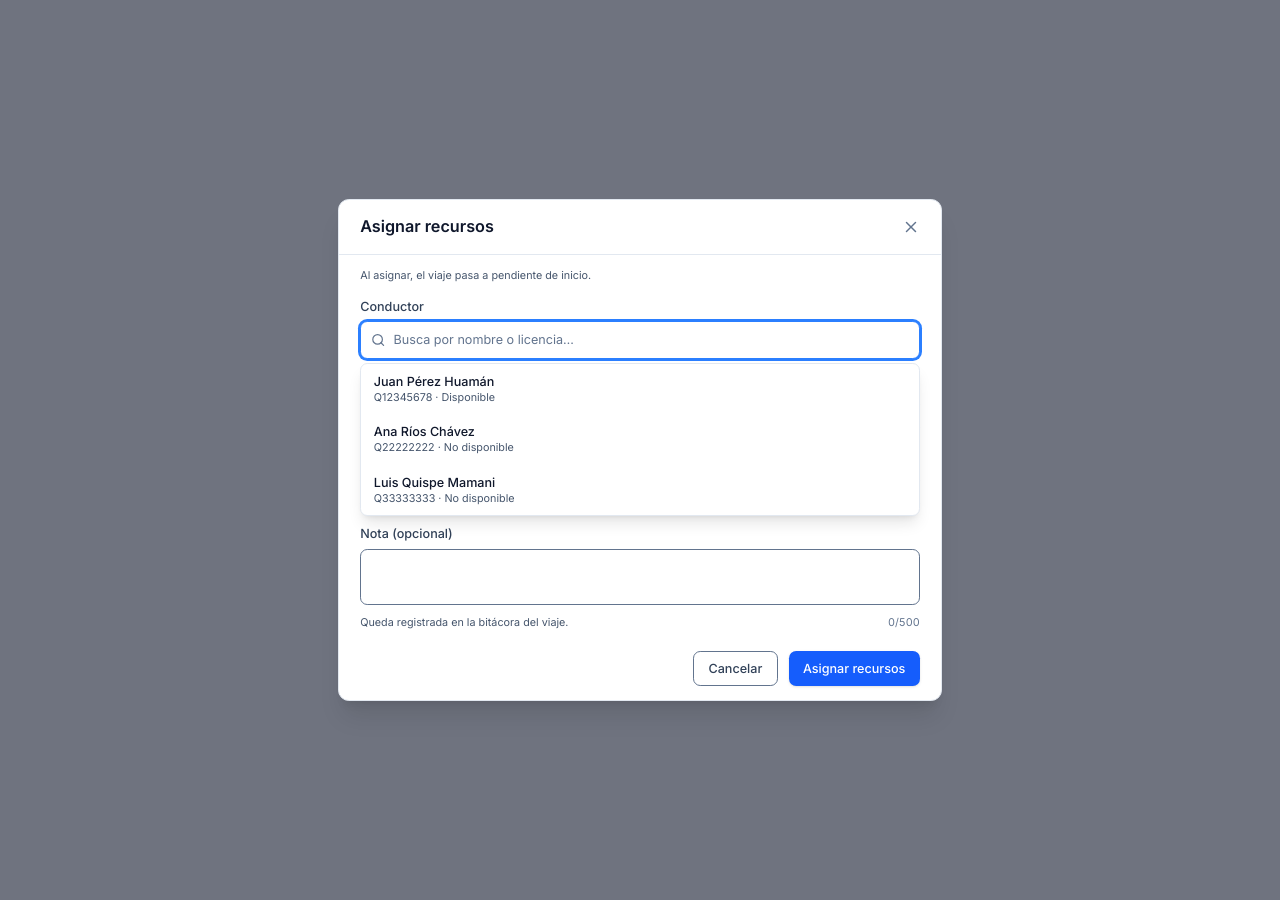
Scenario: AssignResourcesModal · validación › el error desaparece al elegir el conductor
This screenshot has width=1280, height=900.
Step 1. Click the button "Asignar recursos" → [854, 669], box [788,652,920,686]
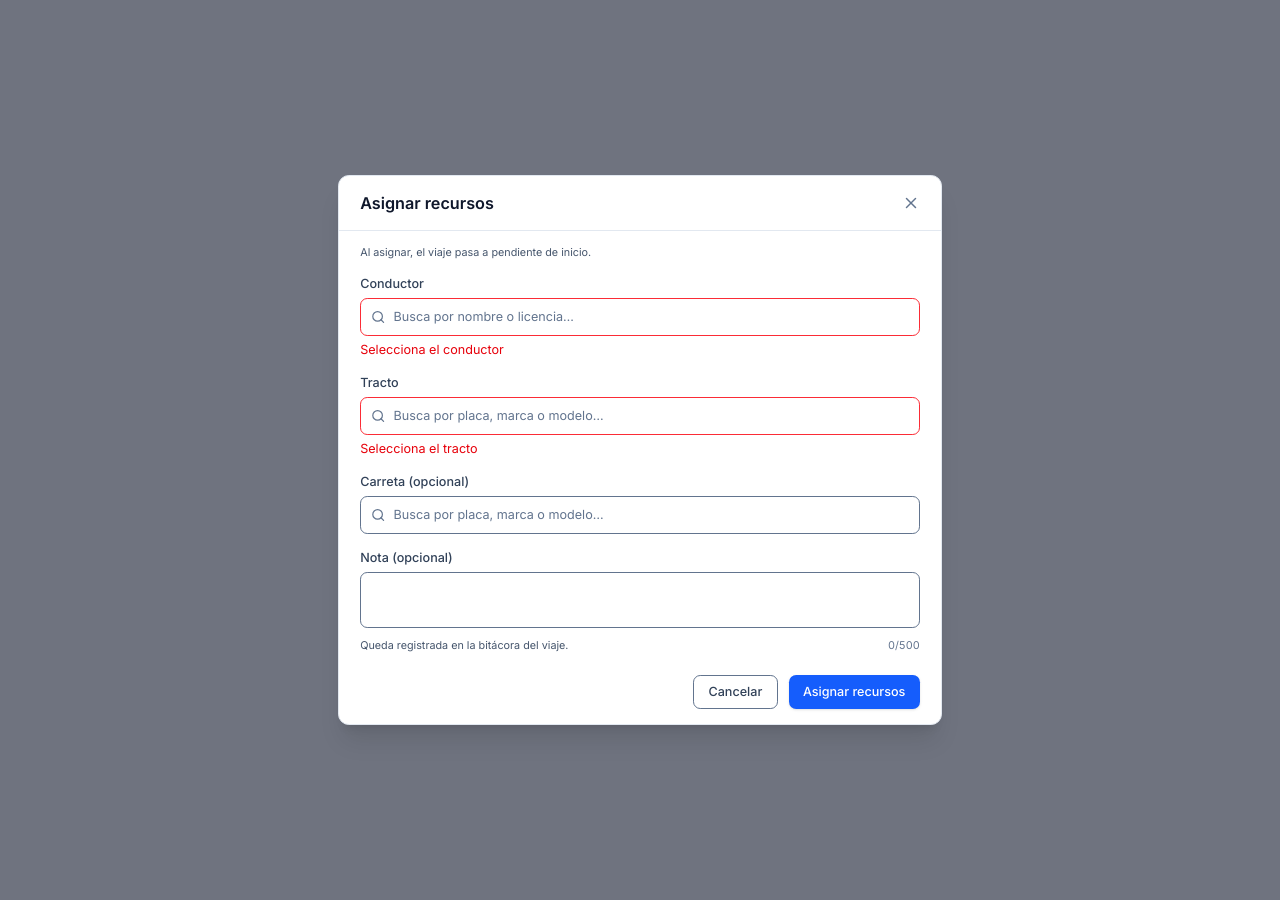
Check: the text "Selecciona el conductor" is shown, box [360,342,504,357]
Step 2. Click the dropdown labelled "Conductor" → [640, 317], box [360,298,920,336]
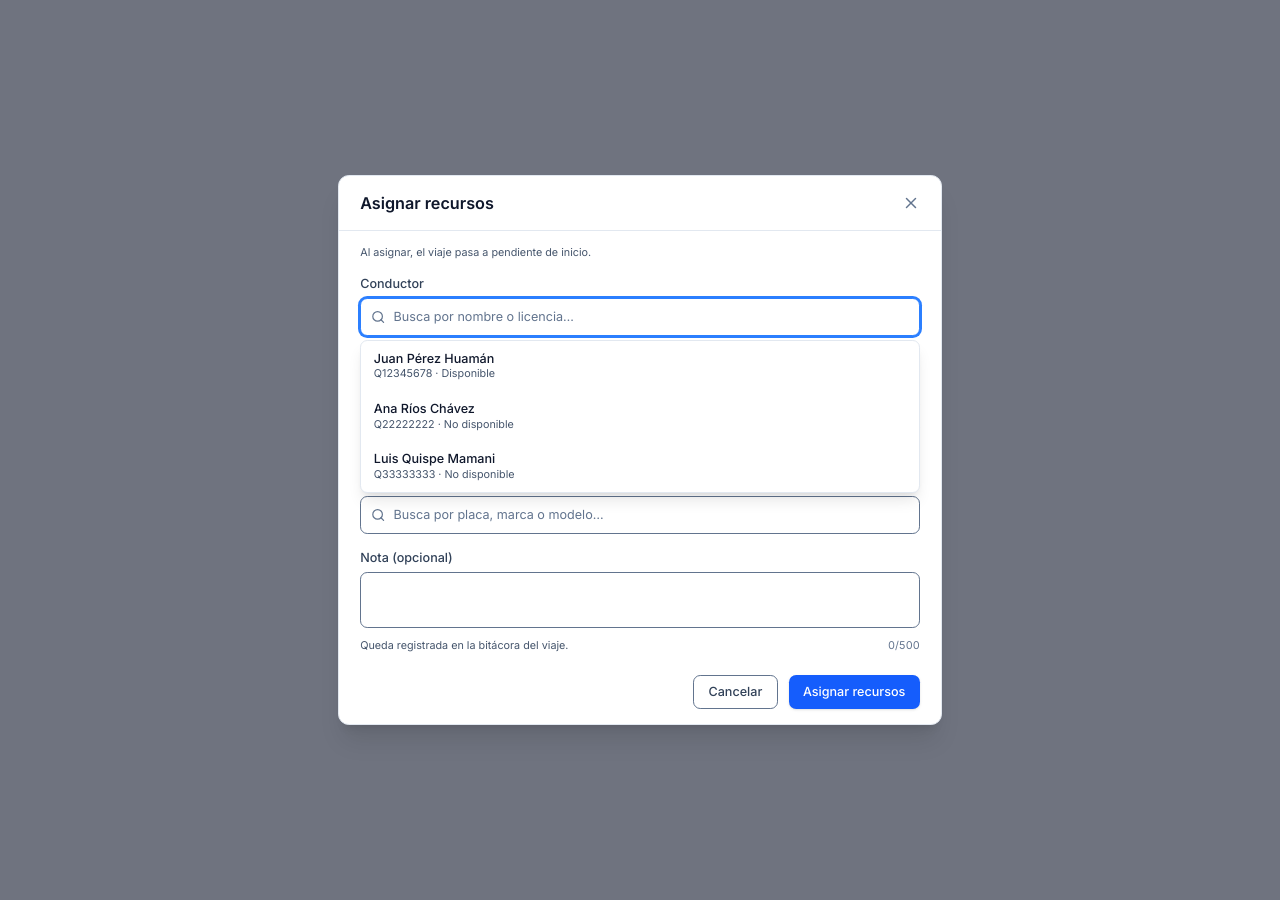
Step 3. Click the text "Juan Pérez Huamán" → [434, 358], box [374,350,494,366]
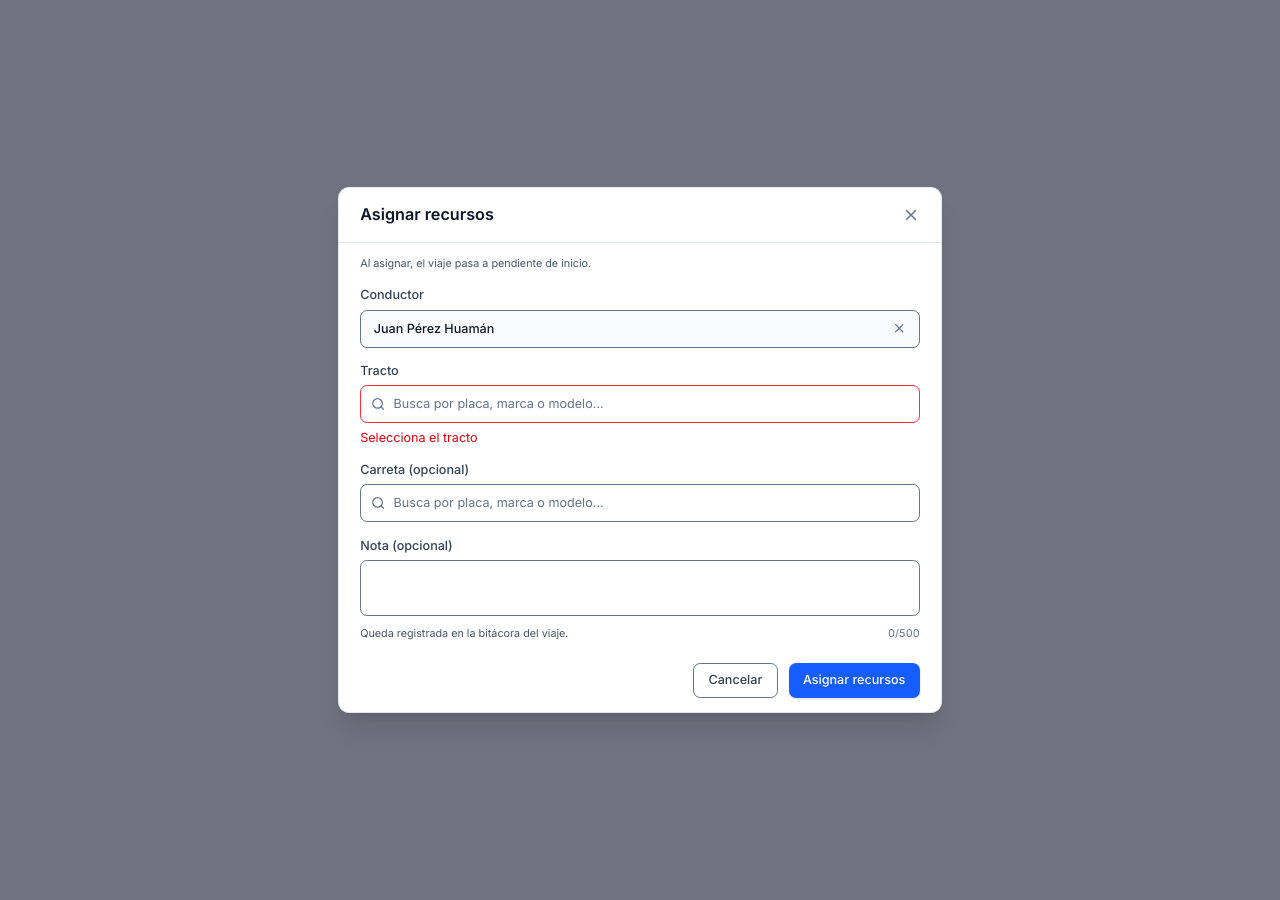
Check: the text "Selecciona el conductor" is gone
